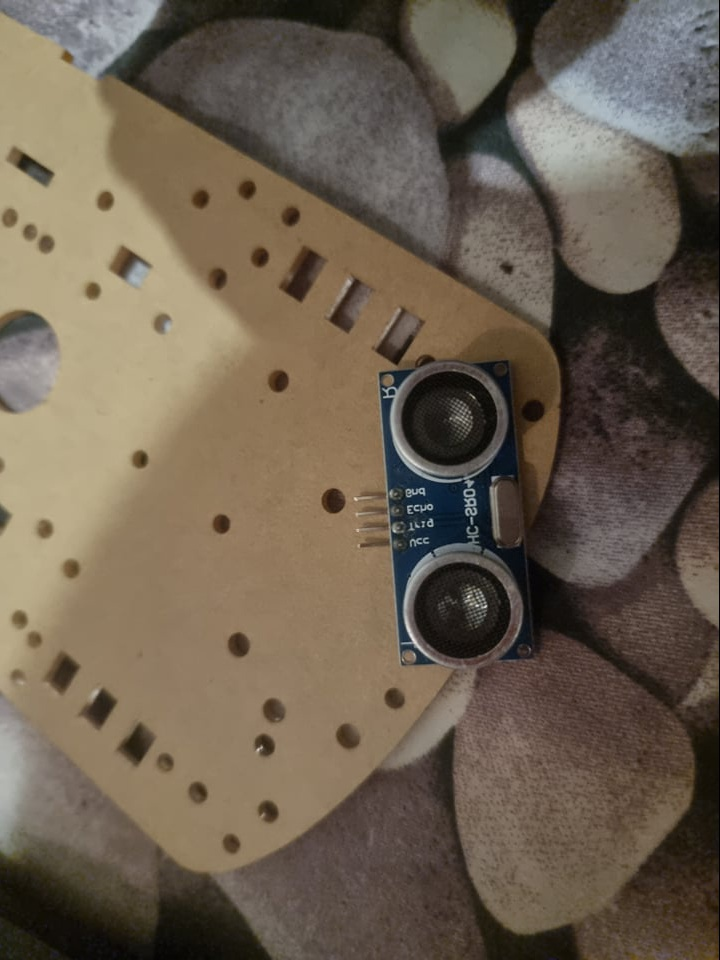SENSOR: (379, 359, 538, 667)
